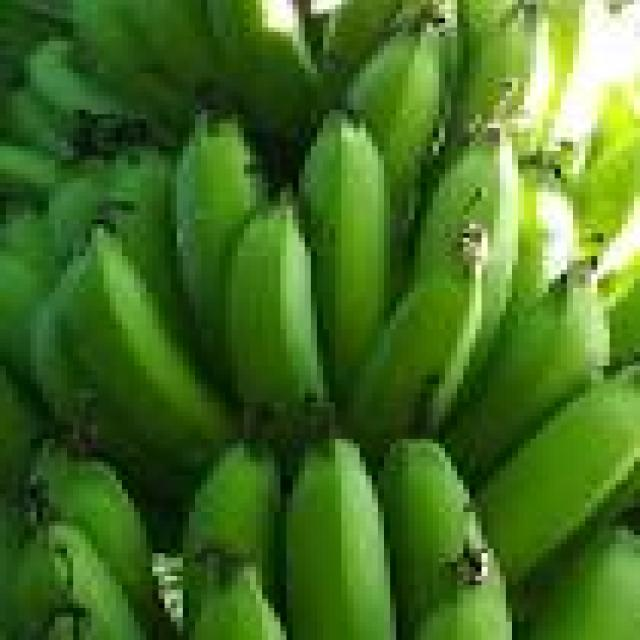banana: (348, 128, 518, 452), (61, 229, 231, 475), (31, 261, 188, 507), (476, 366, 639, 585), (348, 215, 493, 457), (445, 266, 609, 479), (31, 444, 176, 639), (415, 124, 524, 374), (378, 439, 511, 639), (299, 115, 390, 397), (171, 115, 268, 379), (226, 202, 329, 415), (287, 439, 396, 639), (348, 19, 444, 233), (183, 444, 280, 630), (98, 151, 188, 342), (208, 0, 323, 141), (68, 0, 188, 132), (13, 522, 146, 639), (458, 0, 554, 150), (543, 0, 615, 173), (531, 526, 639, 639), (506, 165, 579, 319), (128, 0, 219, 105), (31, 266, 91, 425), (25, 37, 127, 123), (415, 549, 511, 639), (189, 554, 286, 639), (573, 124, 639, 242), (43, 160, 115, 265), (573, 78, 639, 187), (324, 0, 402, 91), (0, 252, 48, 379), (0, 371, 42, 502), (0, 87, 73, 159), (543, 0, 591, 100), (0, 206, 60, 283), (0, 499, 30, 639), (0, 142, 67, 196), (458, 0, 524, 54), (610, 270, 639, 361)
